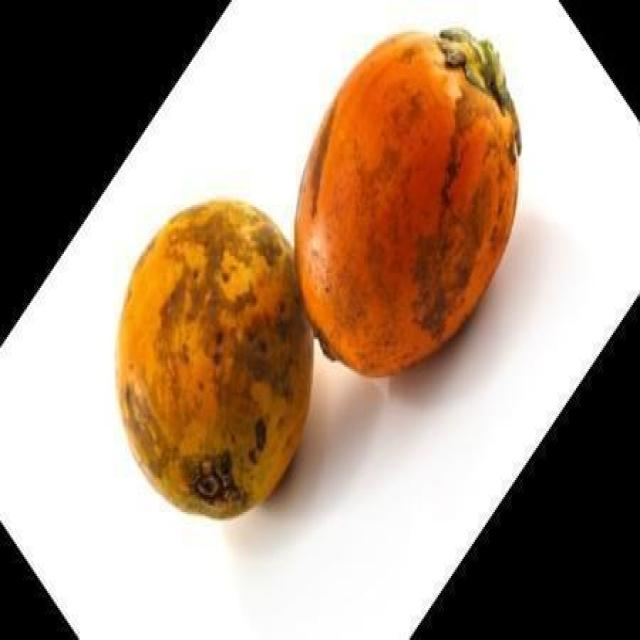good: (296, 30, 521, 380), (115, 201, 316, 523)
